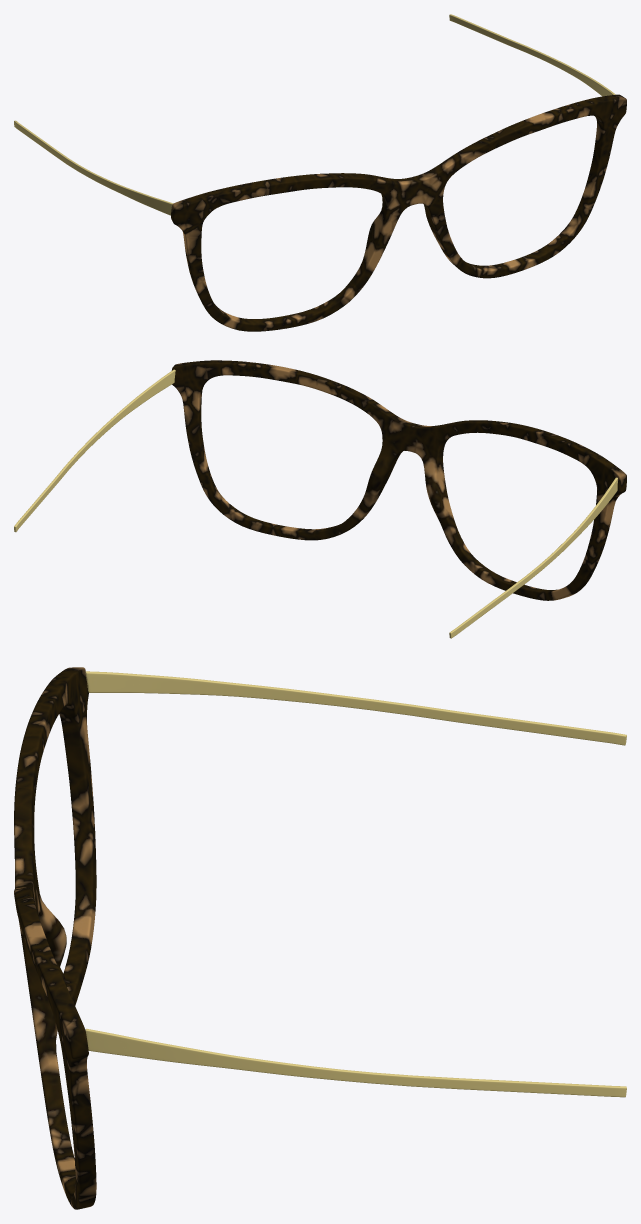
The model's file is RB7135L_app.glb.
3 renders of one model, top to bottom at view 1: azimuth 30°, elevation 25°; view 2: azimuth 150°, elevation 25°; view 3: azimuth 270°, elevation 25°, orthographic. The views are drawn at different scales.
Visible parts, largest first — view 1: Frente, hastes; view 2: Frente, hastes; view 3: Frente, hastes.
Boxes of the visible parts, bbox=[...] form: Frente: bbox=[171, 94, 626, 331]; hastes: bbox=[14, 14, 615, 215]; Frente: bbox=[171, 360, 626, 600]; hastes: bbox=[14, 369, 617, 638]; Frente: bbox=[14, 667, 96, 1209]; hastes: bbox=[85, 671, 626, 1097].
Bounding box in the file's own units: 0.153 × 0.0496 × 0.1053.
1 material, 1 textured.
